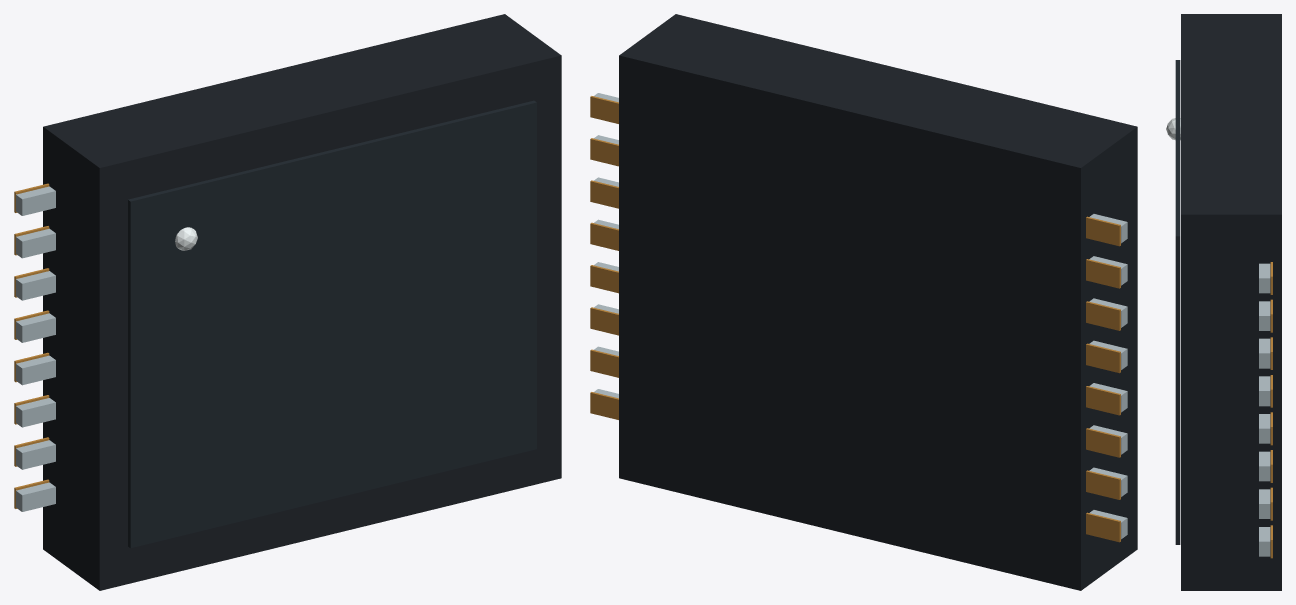
3 renders of one model, left to right at view 1: azimuth 30°, elevation 25°; view 2: azimuth 150°, elevation 25°; view 3: azimuth 270°, elevation 25°, orthographic. The views are drawn at different scales.
Visible parts, largest first — view 1: U4; view 2: U4; view 3: U4.
Boxes of the visible parts, x1,y1,x2,y2 form: U4: (14,14,561,590); U4: (590,14,1137,590); U4: (1166,14,1281,590).
Size of the model in its own units: 0.00917 by 0.007 by 0.00195.
